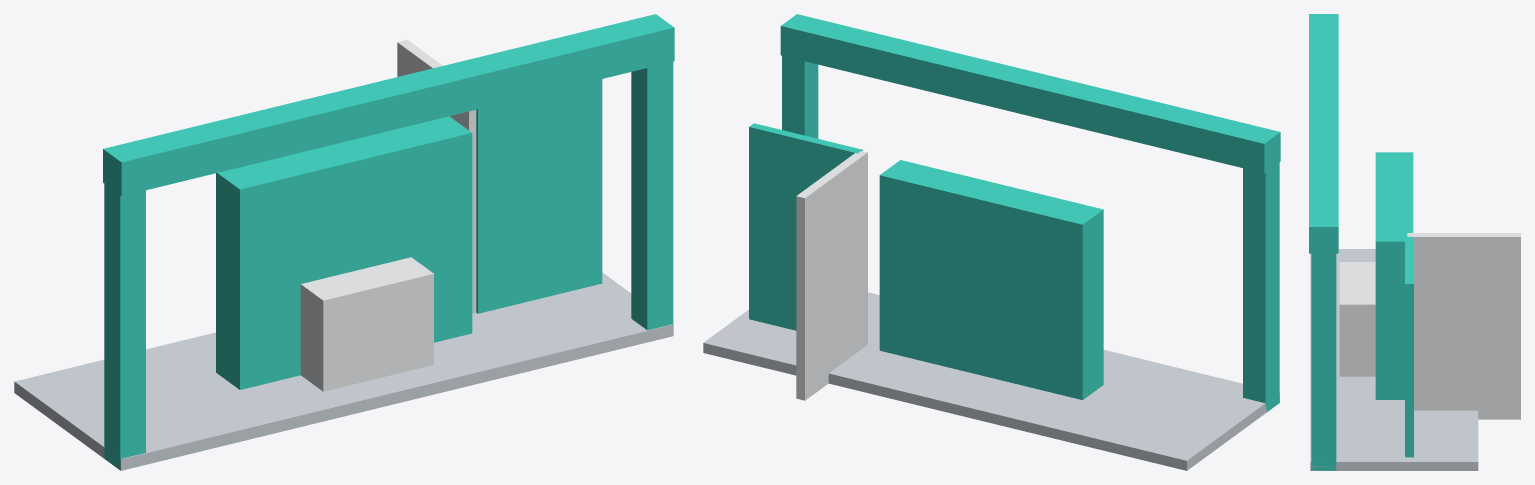
The picture shows the model from 3 angles, left to right: view 1: azimuth 30°, elevation 25°; view 2: azimuth 150°, elevation 25°; view 3: azimuth 270°, elevation 25°; orthographic projection. The views are drawn at different scales.
Visible parts, largest first — view 1: Exhibition Booth Concept; view 2: Exhibition Booth Concept; view 3: Exhibition Booth Concept.
Part boxes in pixels (x1,y1,x2,y2): Exhibition Booth Concept: (14, 14, 674, 470); Exhibition Booth Concept: (703, 14, 1280, 470); Exhibition Booth Concept: (1309, 14, 1520, 470).
Bounding box in the file's own units: 6 × 3.2 × 2.52.
